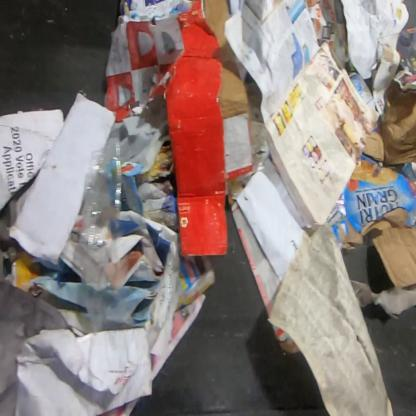cardboard: (166, 0, 255, 257), (327, 151, 416, 287), (362, 80, 415, 165)
soft_plastic: (79, 142, 134, 332), (1, 282, 69, 415)
